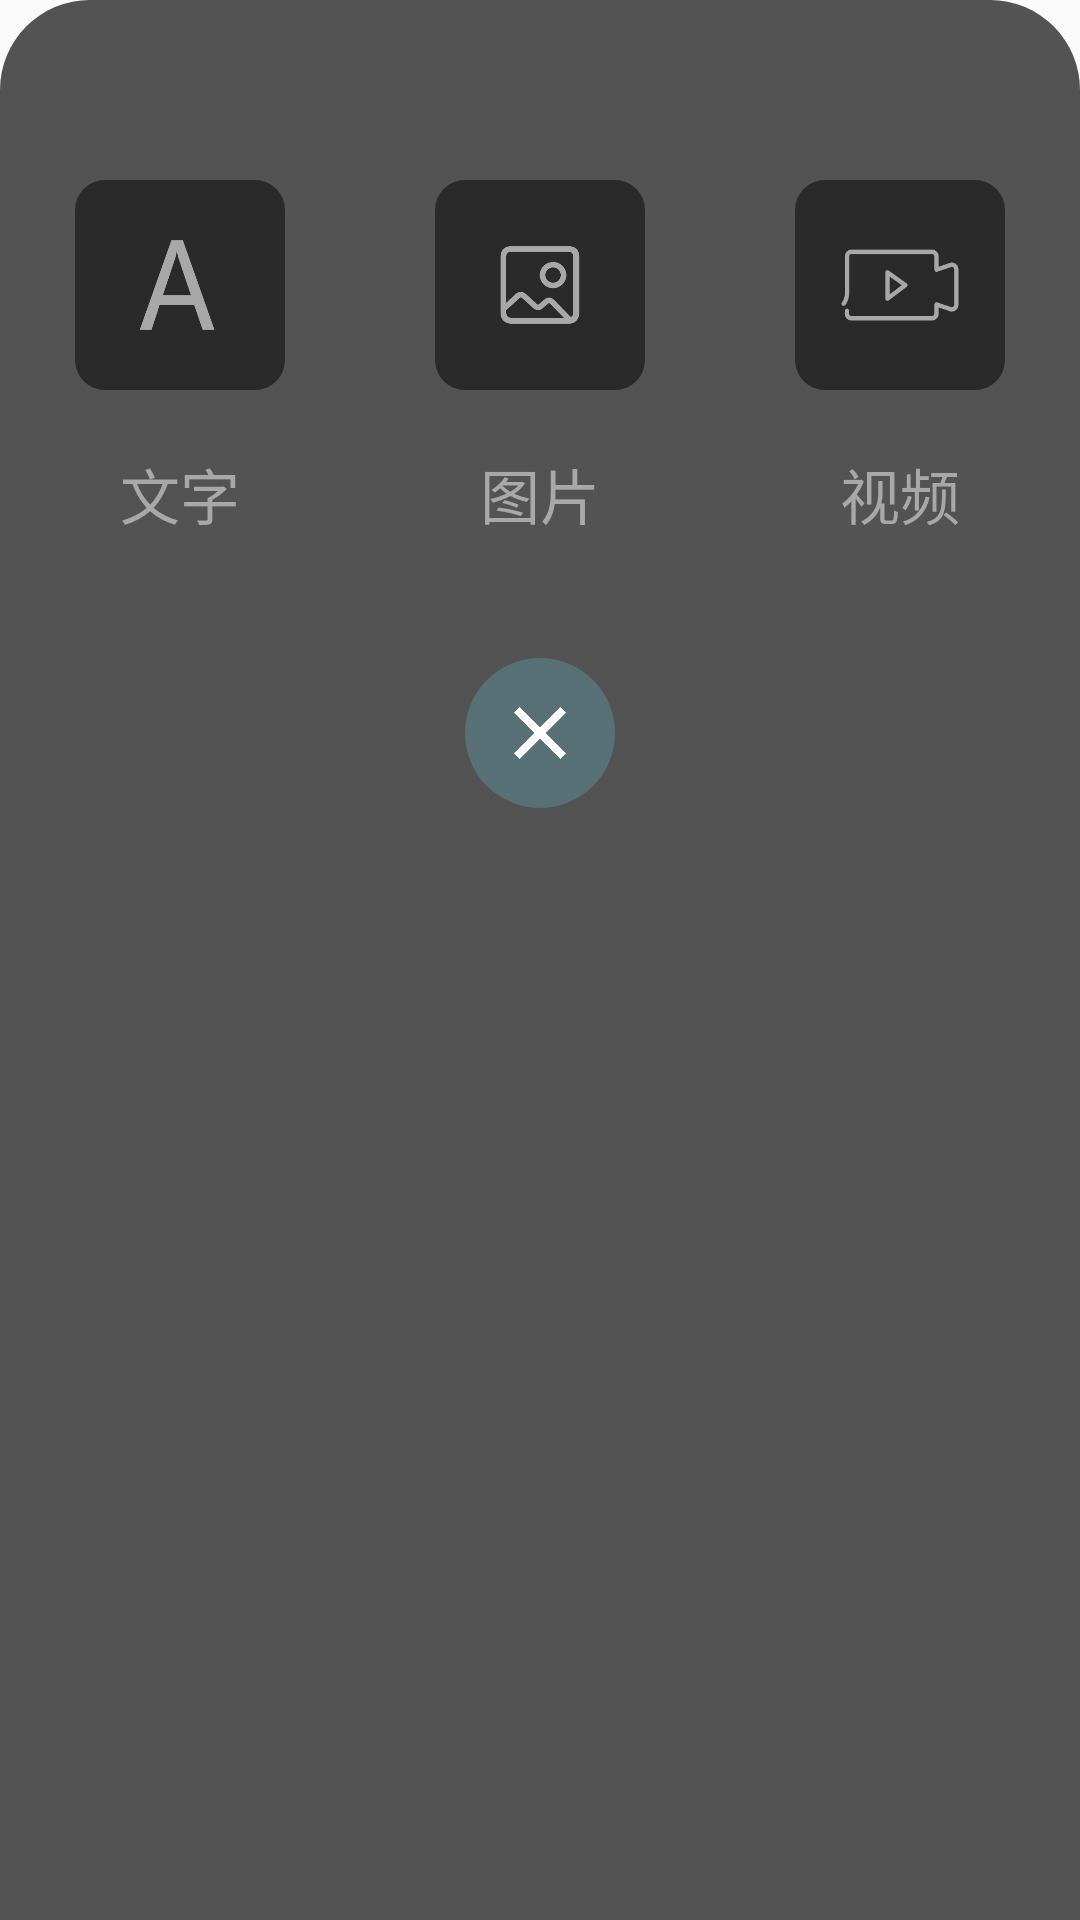

Icon click points for this 1080px x 1920px phone screenshot, format (x=x, y=y):
photo: (x=539, y=285)
video: (x=900, y=285)
wenzi: (x=177, y=285)
